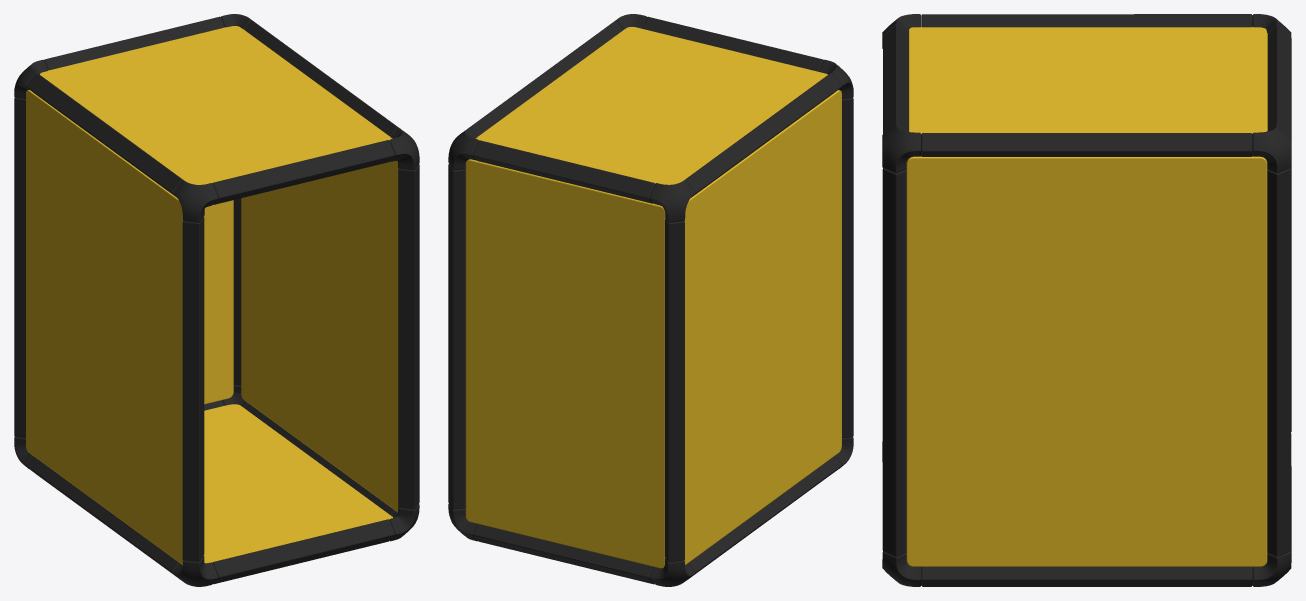
3 views of the same model, side by side, from view 1: azimuth 30°, elevation 25°; view 2: azimuth 150°, elevation 25°; view 3: azimuth 270°, elevation 25° (orthographic). The views are drawn at different scales.
Visible parts, largest first — view 1: 229x329x420; view 2: 229x329x420; view 3: 229x329x420.
Part boxes in pixels (bbox=[...]): 229x329x420: bbox=[14, 14, 419, 586]; 229x329x420: bbox=[448, 14, 853, 586]; 229x329x420: bbox=[882, 14, 1291, 586].
Bounding box in the file's own units: 0.3068 × 0.4976 × 0.4062.
